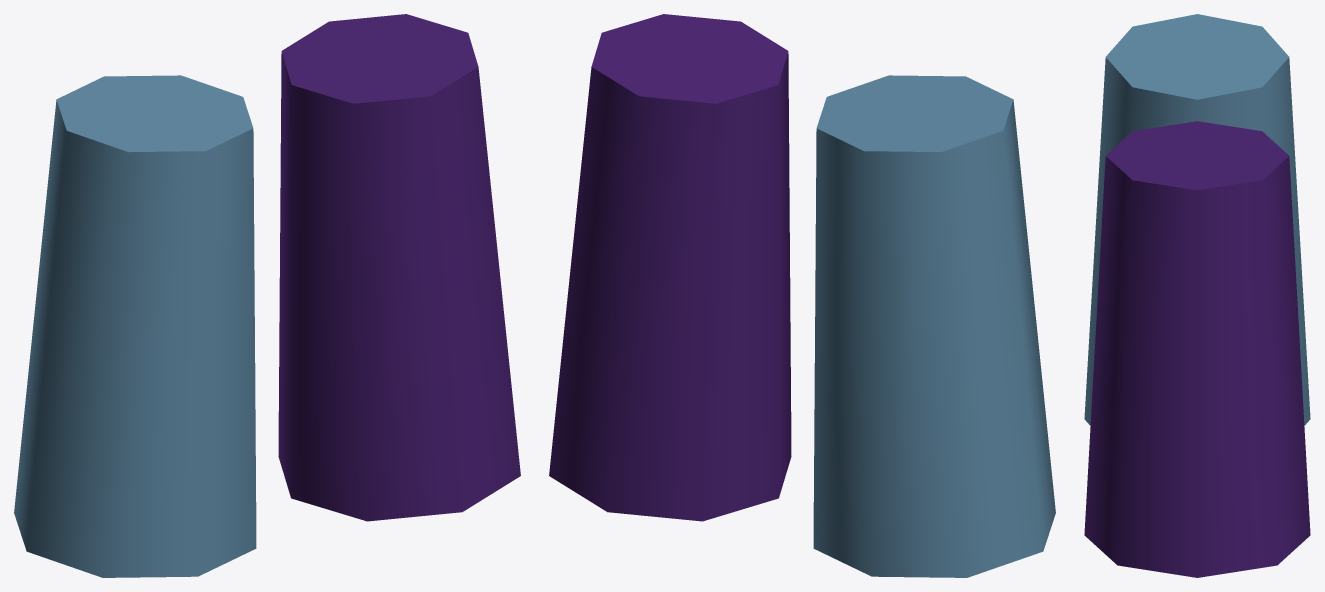
File: legs.glb
3 renders of one model, left to right at view 1: azimuth 30°, elevation 25°; view 2: azimuth 150°, elevation 25°; view 3: azimuth 270°, elevation 25°, orthographic. The views are drawn at different scales.
Parts seen in each view (by area): view 1: greave_-1, greave_1; view 2: greave_-1, greave_1; view 3: greave_1, greave_-1.
Part boxes in pixels (bbox=[...]): greave_-1: bbox=[14, 75, 256, 577]; greave_1: bbox=[278, 14, 520, 521]; greave_-1: bbox=[813, 75, 1055, 577]; greave_1: bbox=[549, 14, 791, 521]; greave_1: bbox=[1084, 121, 1310, 577]; greave_-1: bbox=[1084, 14, 1310, 425].
Size of the model in its own units: 0.7086 by 0.5938 by 0.32.
